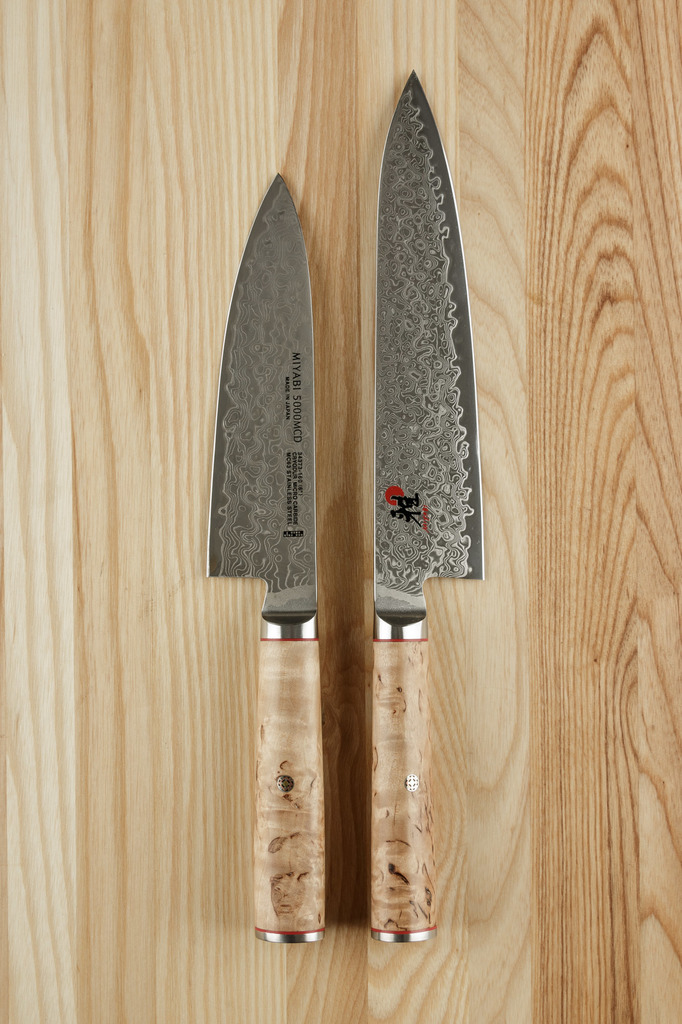kitchen knife: (367, 70, 490, 944), (205, 165, 317, 944)
